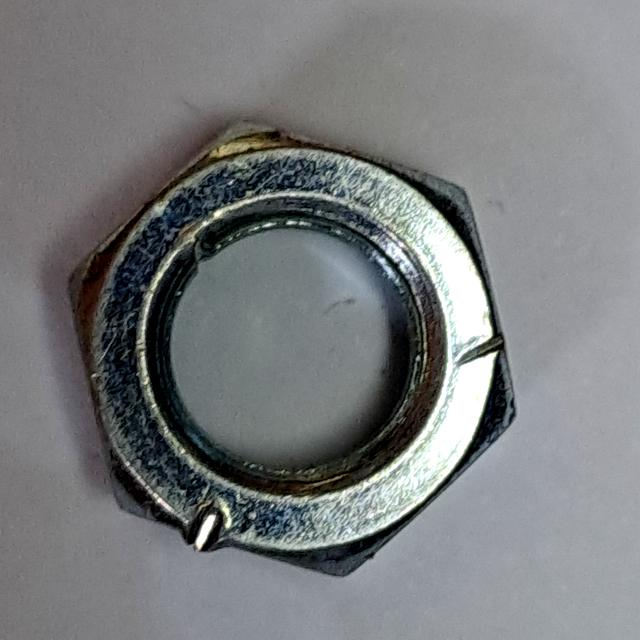Scratches: (53, 102, 550, 595)
